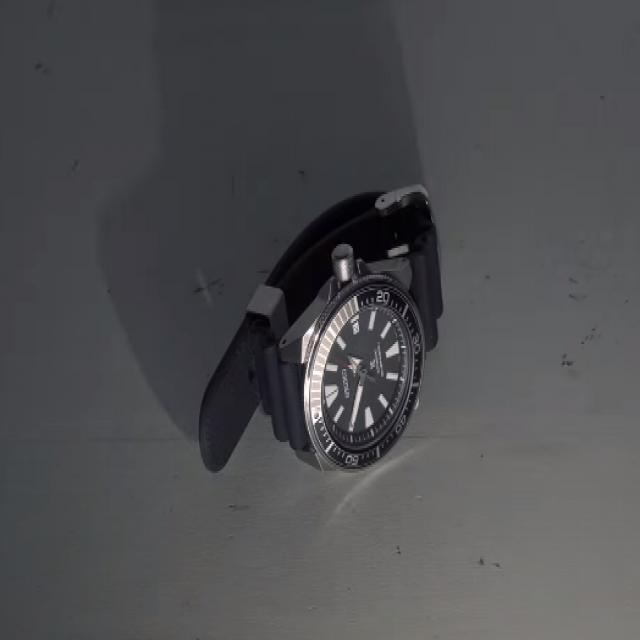Watch: (196, 178, 444, 477)
